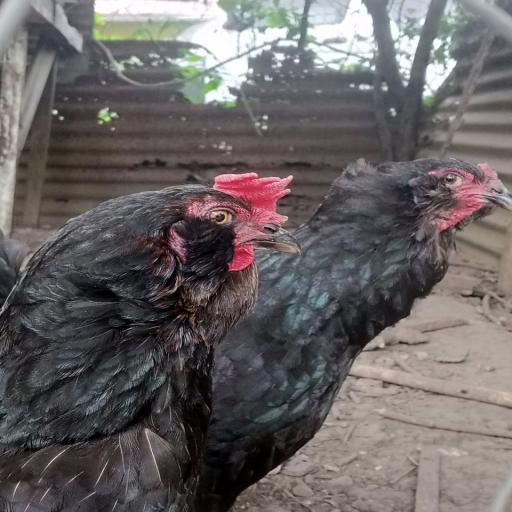healthy: (178, 161, 308, 285)
